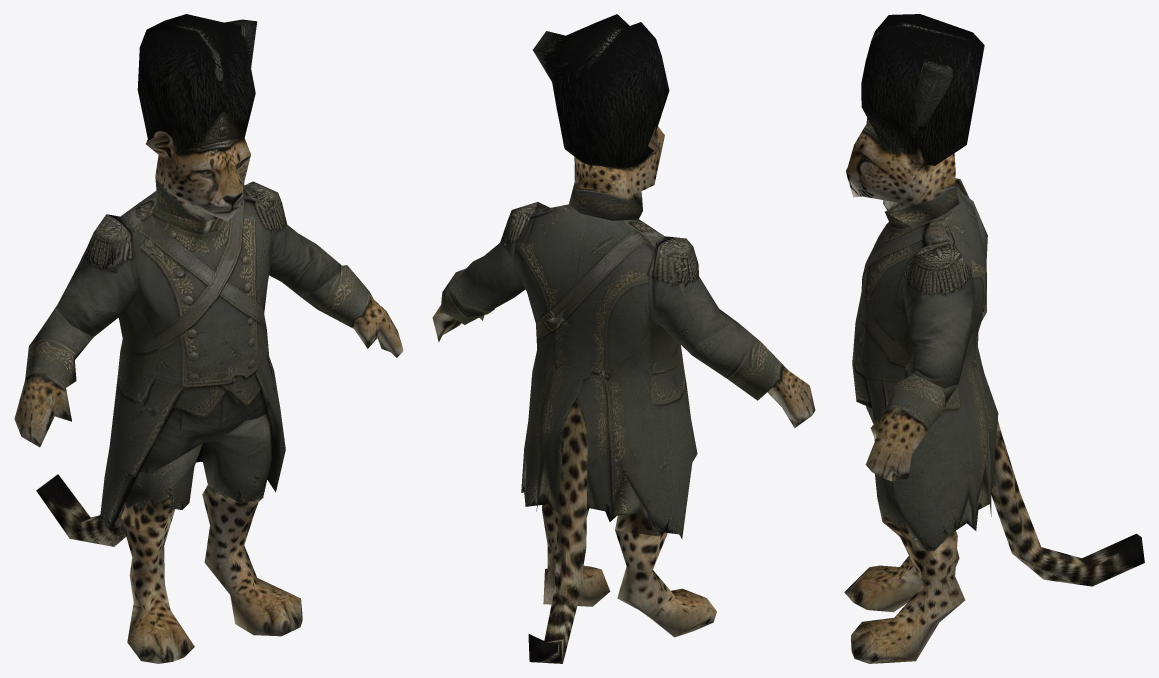
The model's file is infantry_base_gibs.glb.
3 views of the same model, side by side, from view 1: azimuth 30°, elevation 25°; view 2: azimuth 150°, elevation 25°; view 3: azimuth 270°, elevation 25° (orthographic).
Parts seen in each view (by area): view 1: Body.001, Hat.001, Leg.L.001, Head.001, Arm.R.001, Leg.R.001, Forarm.R.001, Upleg.L.001, Forarm.L.001, Arm.L.001, Upleg,R.001; view 2: Body.001, Hat.001, Arm.R.001, Forarm.R.001, Leg.R.001, Head.001, Arm.L.001, Leg.L.001, Forarm.L.001, Upleg,R.001; view 3: Body.001, Hat.001, Arm.L.001, Leg.L.001, Head.001, Forarm.L.001, Leg.R.001, Upleg.L.001.
Part boxes in pixels (x1,y1,x2,y2): Body.001: [36, 186, 285, 546]; Hat.001: [137, 14, 257, 157]; Leg.L.001: [202, 485, 302, 636]; Head.001: [155, 138, 250, 223]; Arm.R.001: [57, 214, 138, 337]; Leg.R.001: [121, 510, 194, 663]; Forarm.R.001: [14, 305, 93, 447]; Upleg.L.001: [200, 410, 272, 503]; Forarm.L.001: [302, 265, 403, 357]; Arm.L.001: [244, 181, 344, 298]; Upleg,R.001: [121, 443, 202, 530]; Body.001: [512, 202, 697, 663]; Hat.001: [533, 14, 669, 169]; Arm.R.001: [652, 236, 738, 355]; Forarm.R.001: [692, 323, 815, 427]; Leg.R.001: [615, 530, 716, 637]; Head.001: [569, 126, 664, 220]; Arm.L.001: [449, 202, 537, 314]; Leg.L.001: [542, 504, 610, 606]; Forarm.L.001: [432, 268, 494, 342]; Upleg,R.001: [615, 513, 662, 536]; Body.001: [852, 179, 1144, 586]; Hat.001: [861, 14, 984, 172]; Arm.L.001: [903, 243, 974, 388]; Leg.L.001: [851, 522, 965, 663]; Head.001: [846, 124, 959, 227]; Forarm.L.001: [865, 369, 957, 481]; Leg.R.001: [844, 549, 959, 612]; Upleg.L.001: [874, 439, 906, 526].
Size of the model in its own units: 0.6429 by 0.9813 by 0.4417.
2 materials, 1 textured.
